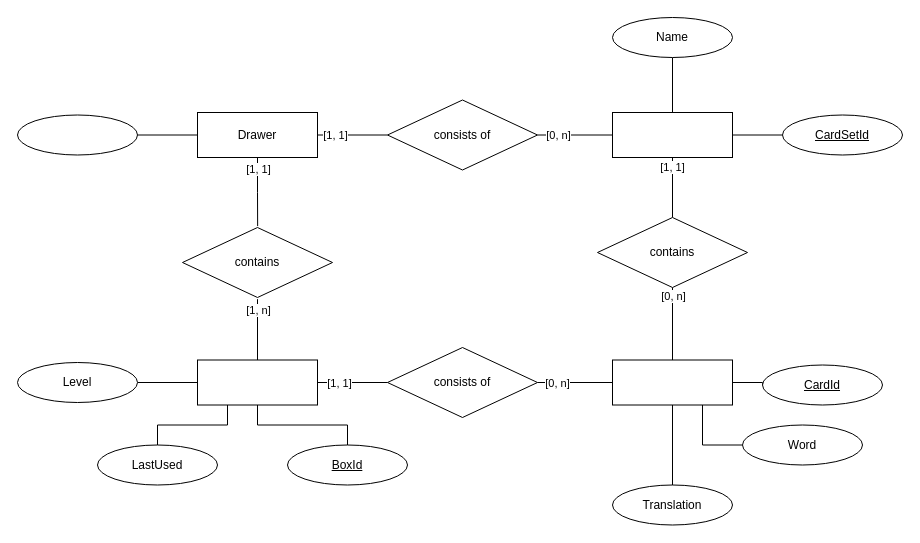
The diagram is 920 pixels wide and 543 high, and some of its shapes have lost their labels. Here are the shapes that lost their labels. From the top down, the centre of each, then its label:
At pixel 77 134: "DrawerId".
At pixel 672 135: "CardSet".
At pixel 257 382: "Box".
At pixel 672 382: "Card".
